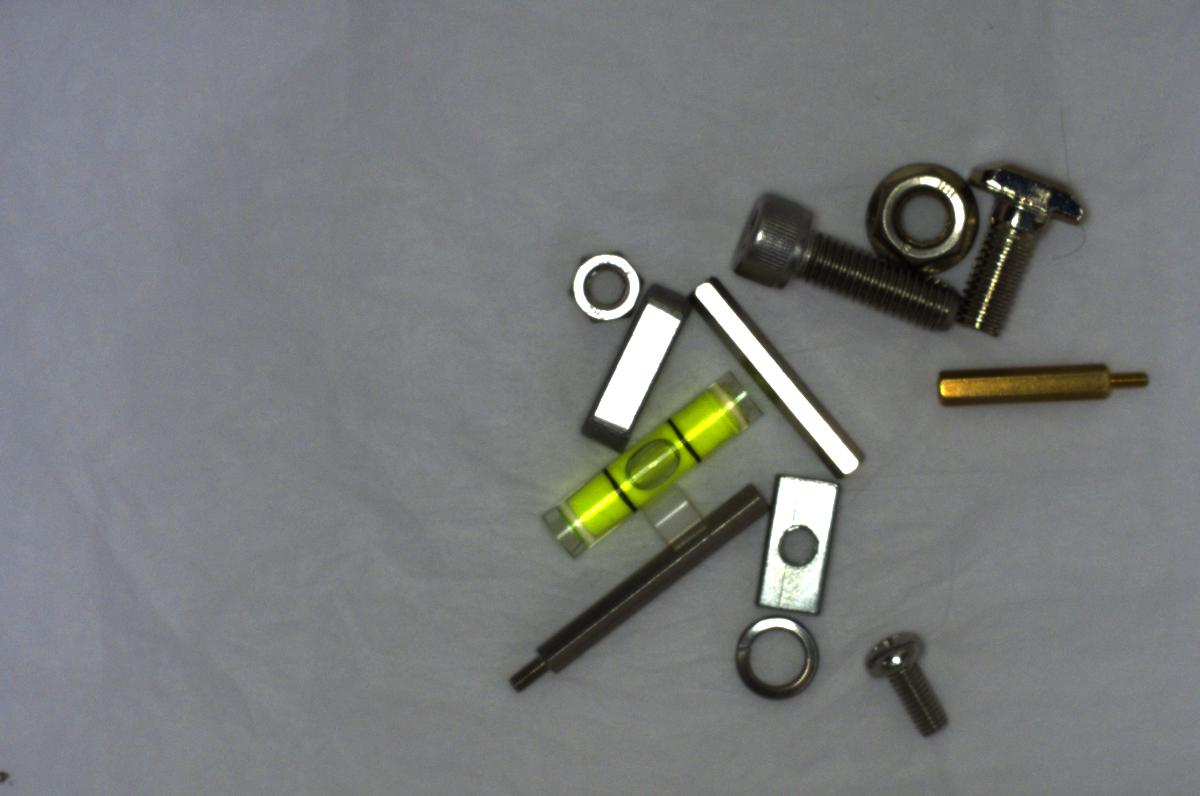Double hexagonal column: (674, 272, 871, 489)
Flange nut: (856, 140, 980, 276)
Hexagon nut: (561, 242, 650, 328)
Hexagon pillar: (920, 342, 1166, 418)
Hexagon screw: (726, 190, 967, 335)
Hexagonal steel column: (505, 480, 766, 695)
Horizontal bubble: (535, 368, 774, 562)
Keybar: (562, 282, 696, 448)
Plastic cushion pillar: (639, 485, 702, 548)
Rectangular nut: (750, 468, 851, 623)
Round head screw: (856, 622, 970, 758)
Spring washer: (721, 612, 834, 706)
T-shaped screw: (944, 155, 1107, 333)
